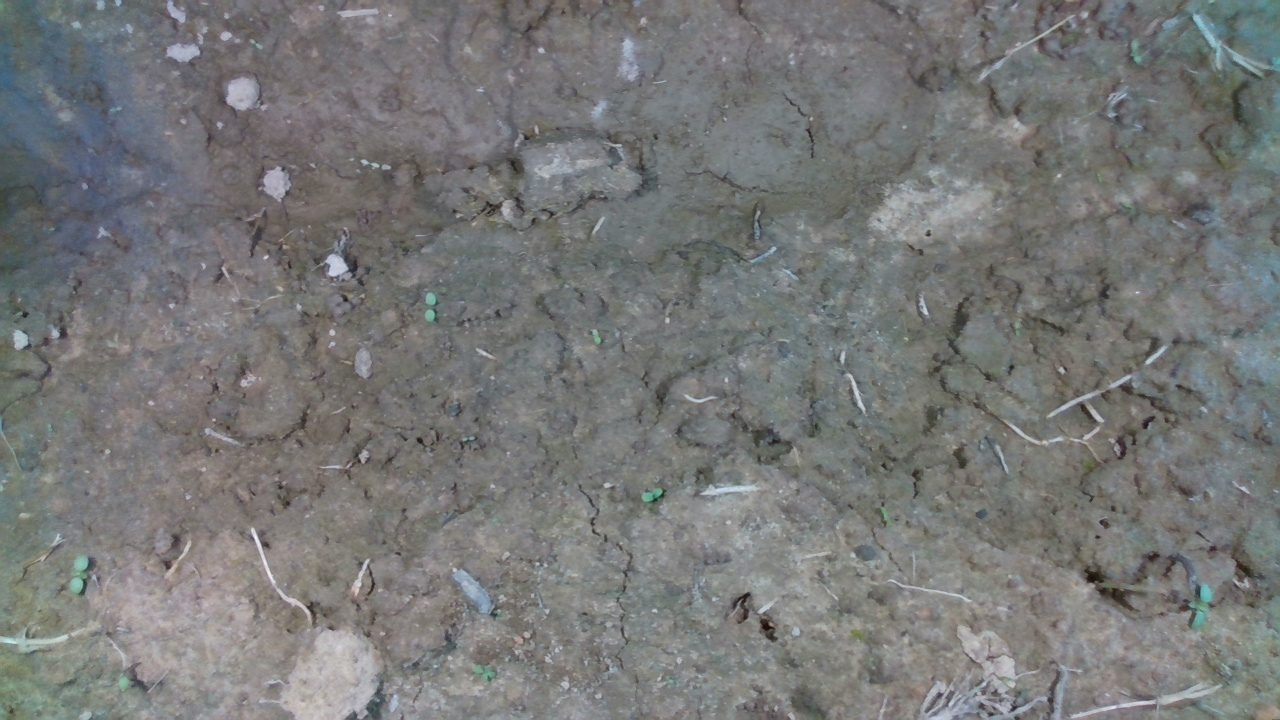weed: (1190, 577, 1221, 626), (63, 552, 93, 597), (467, 659, 509, 689), (639, 481, 669, 505), (417, 288, 437, 320), (584, 323, 599, 346)
